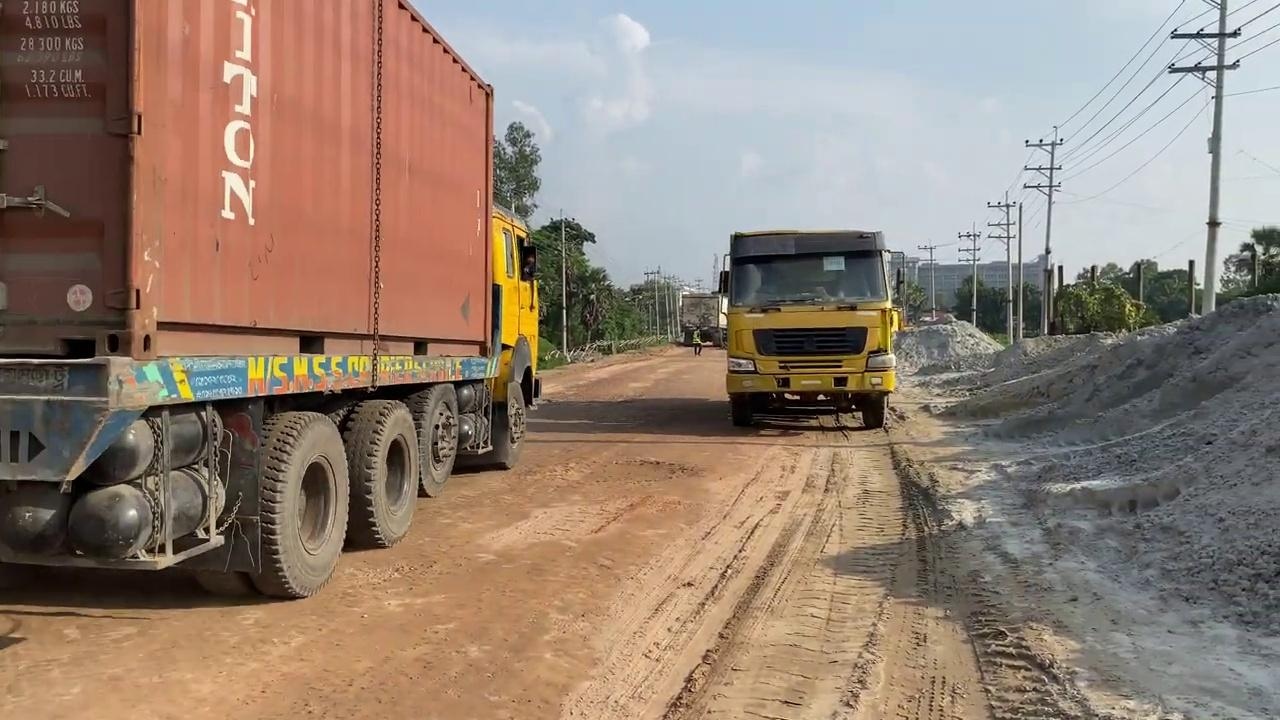Garbage: (887, 310, 1278, 717)
Muddy road: (2, 310, 1277, 717)
Pole: (1167, 0, 1241, 314), (1200, 0, 1228, 315)
Traffic-sign: (492, 119, 542, 221)
Tree: (0, 0, 542, 600), (715, 228, 904, 429), (676, 289, 722, 346)
